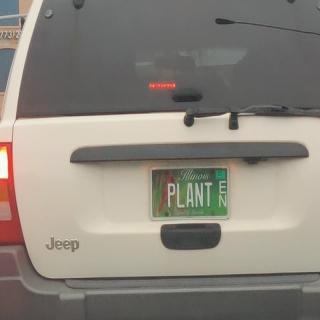license: (150, 166, 231, 222)
